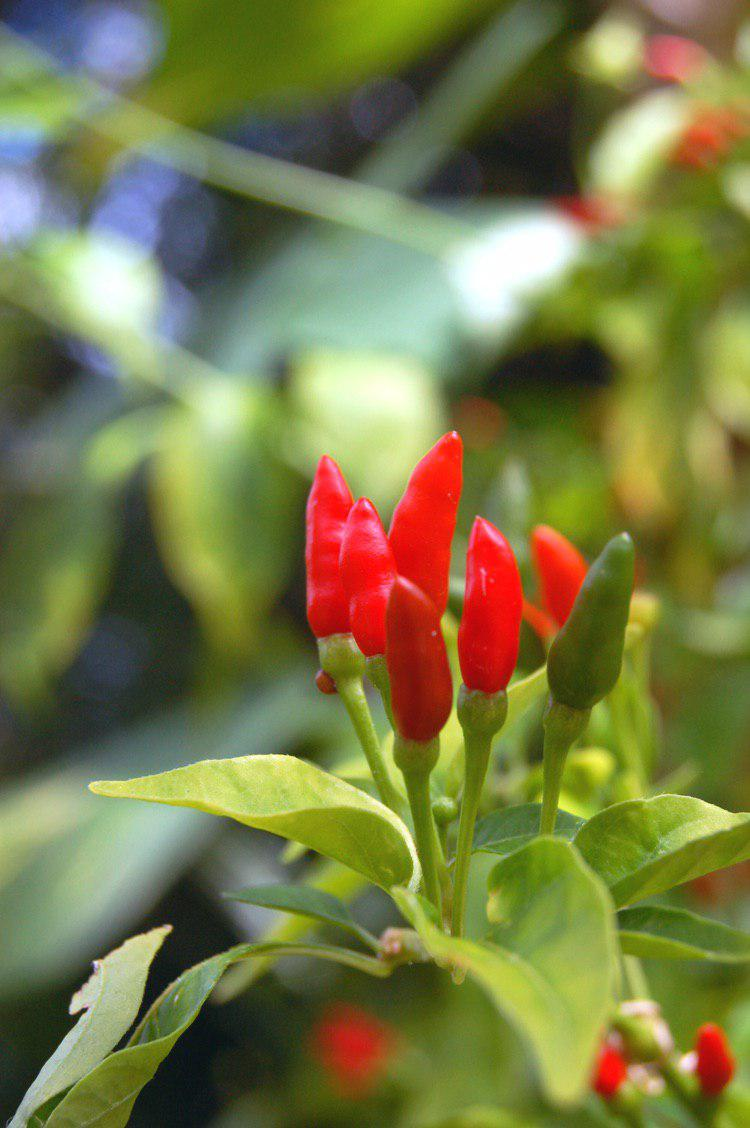lada hijau: (539, 538, 661, 719)
lada merah: (389, 403, 490, 600), (456, 521, 535, 717), (285, 446, 358, 657), (375, 574, 459, 741), (328, 503, 409, 657)
